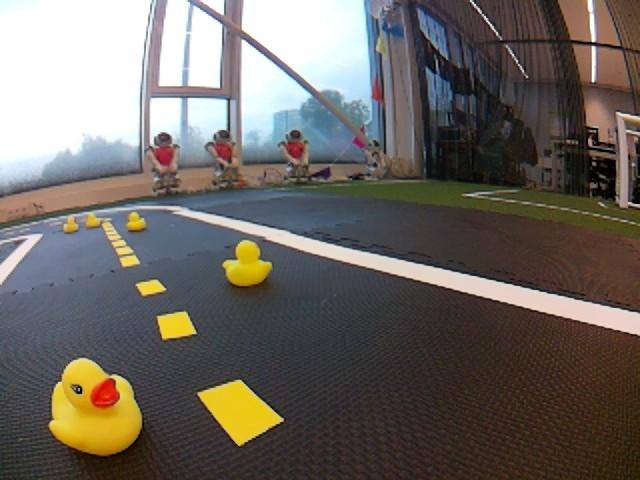Duckies: (48, 358, 142, 456), (223, 239, 272, 288), (126, 212, 145, 231), (62, 216, 78, 232), (85, 214, 100, 227)
